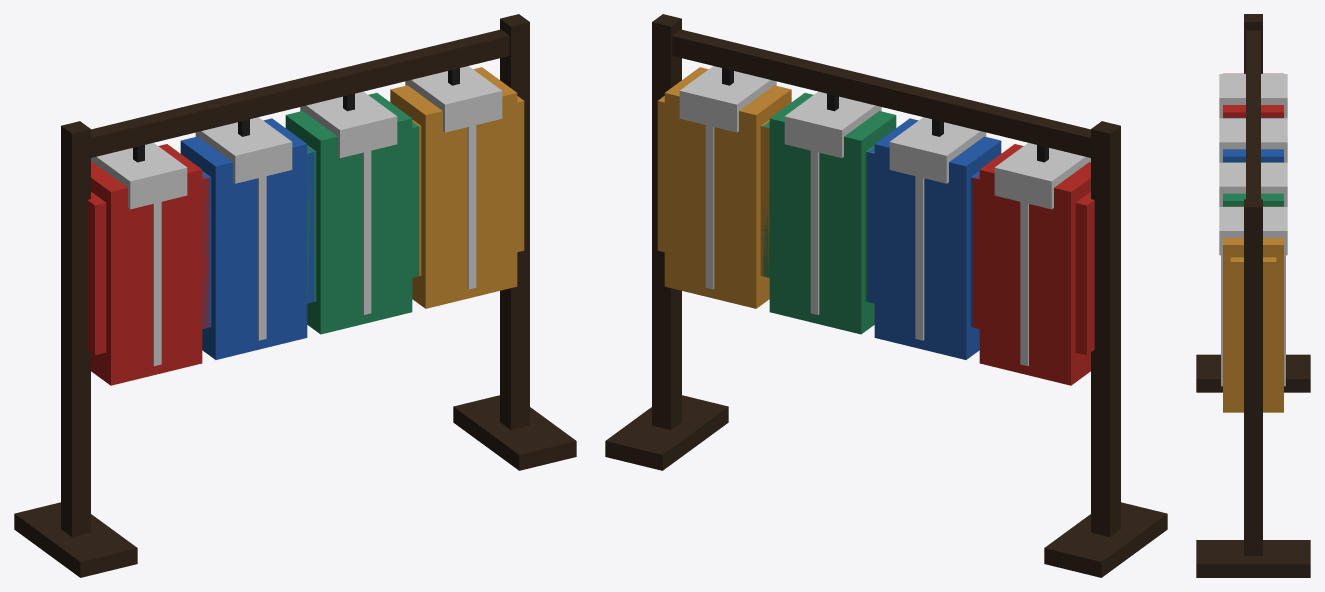
The model's file is ntu-jacket-rail.glb.
3 renders of one model, left to right at view 1: azimuth 30°, elevation 25°; view 2: azimuth 150°, elevation 25°; view 3: azimuth 270°, elevation 25°, orthographic. The views are drawn at different scales.
Visible parts, largest first — view 1: box-prop; view 2: box-prop; view 3: box-prop.
Part boxes in pixels (x1=…): box-prop: x1=14, y1=14, x2=576, y2=577; box-prop: x1=605, y1=14, x2=1167, y2=577; box-prop: x1=1196, y1=14, x2=1310, y2=577.
Size of the model in its own units: 2.6 by 2.1 by 0.6.
